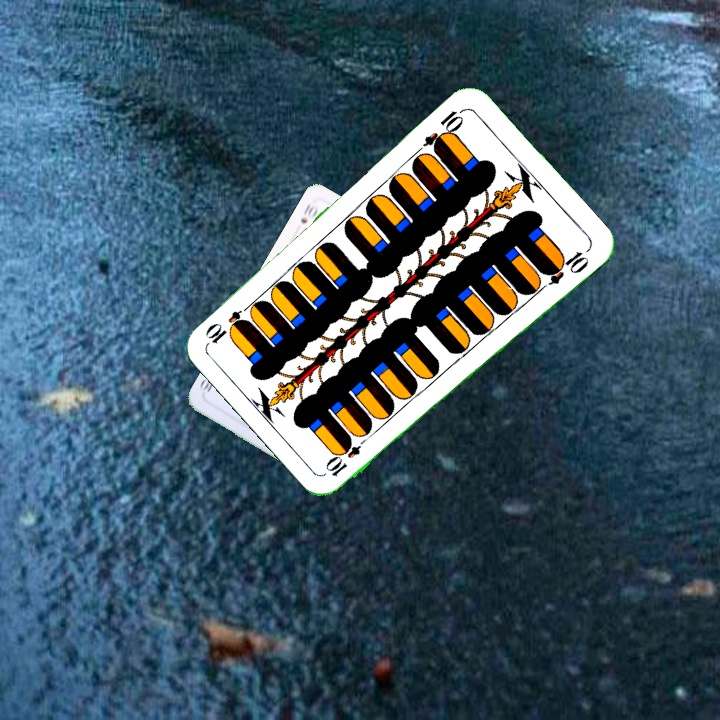E10: (322, 430, 372, 479), (420, 104, 468, 154)
S10: (296, 199, 320, 226)
